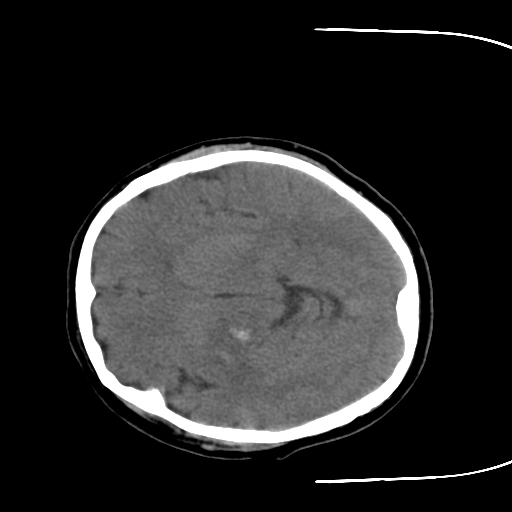a: (196, 305, 272, 361)
